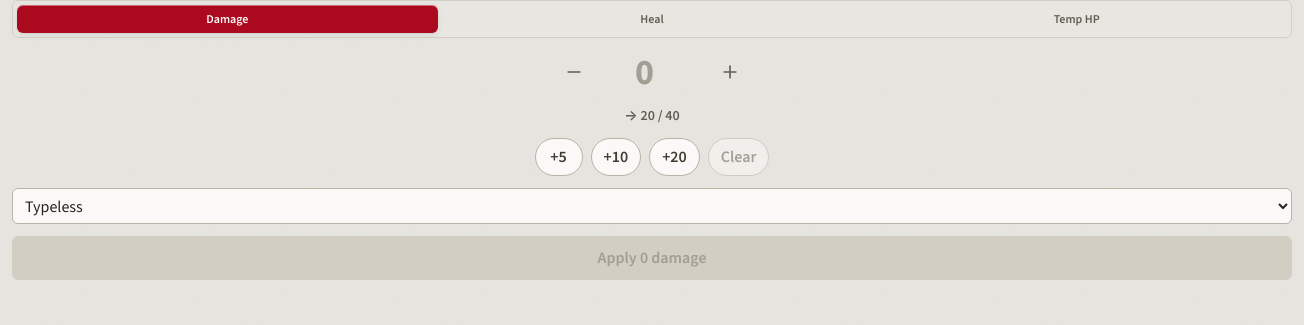
Scenario: HpActionControl projected-result line (#796) › projects the full amount when the player declines resistance
Click the button named "Add 10".
click(616, 157)  # box 590,138 -> 641,176
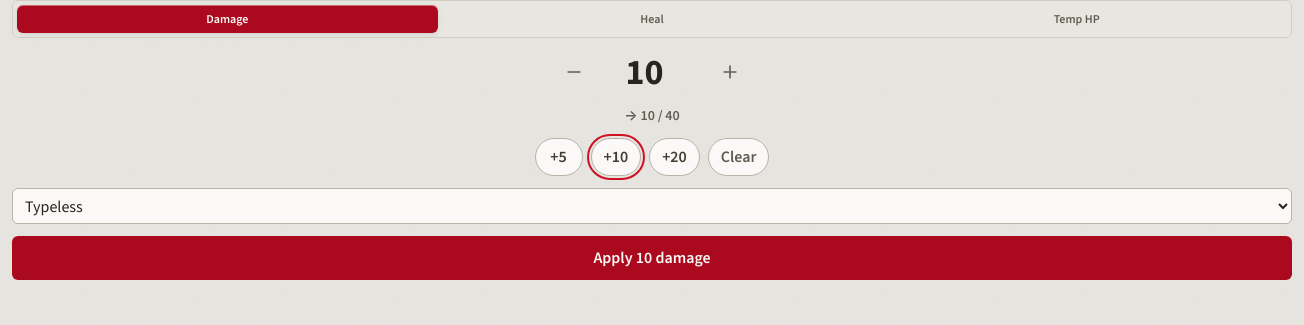
Click the button named "Increase amount".
click(730, 72)  # box 708,50 -> 752,94
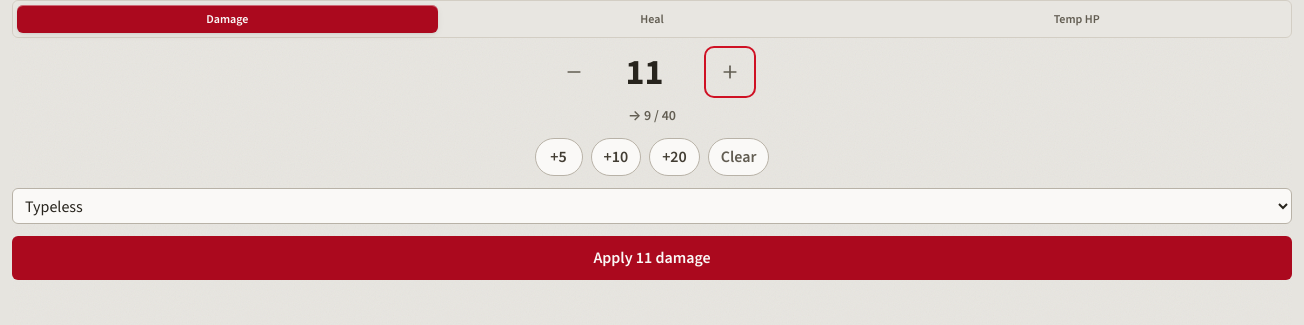
Click the button named "Increase amount".
click(730, 72)  # box 708,50 -> 752,94
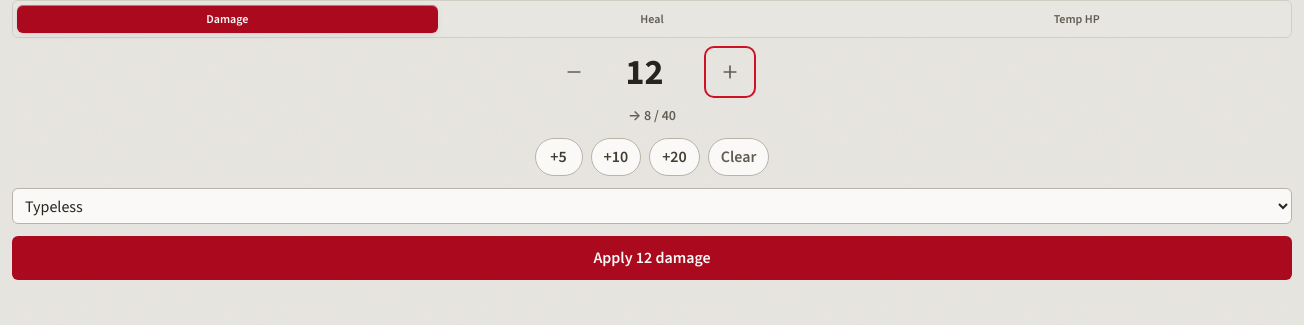
Select "Slashing" in the dropdown named "damage type" at {"x": 652, "y": 206}, box 12,188 -> 1292,224
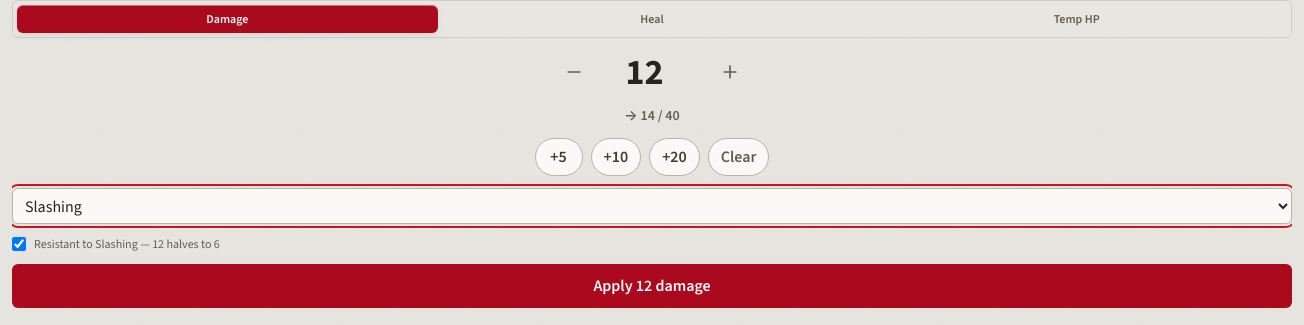
Click the checkbox labelled "Resistant to Slashing — 12 halves to 6".
click(19, 244)  # box 12,237 -> 26,251
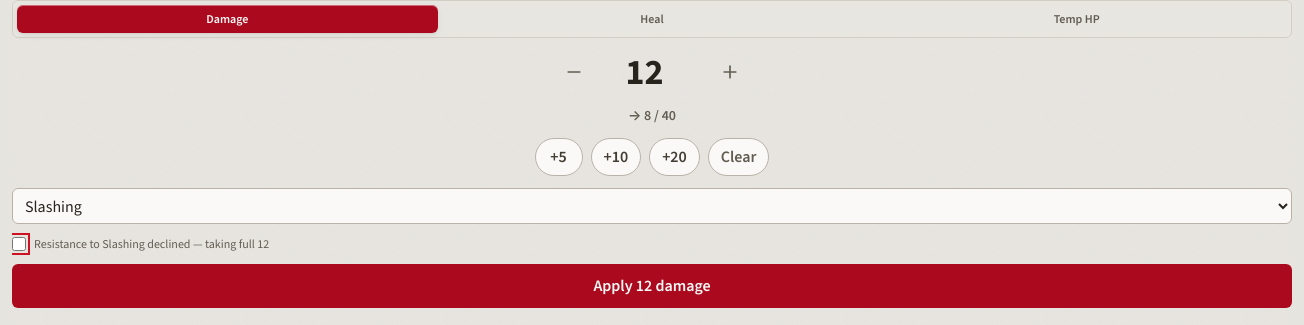
expect the text "→ 8 / 40" is shown: met, box 628,106 -> 676,125
